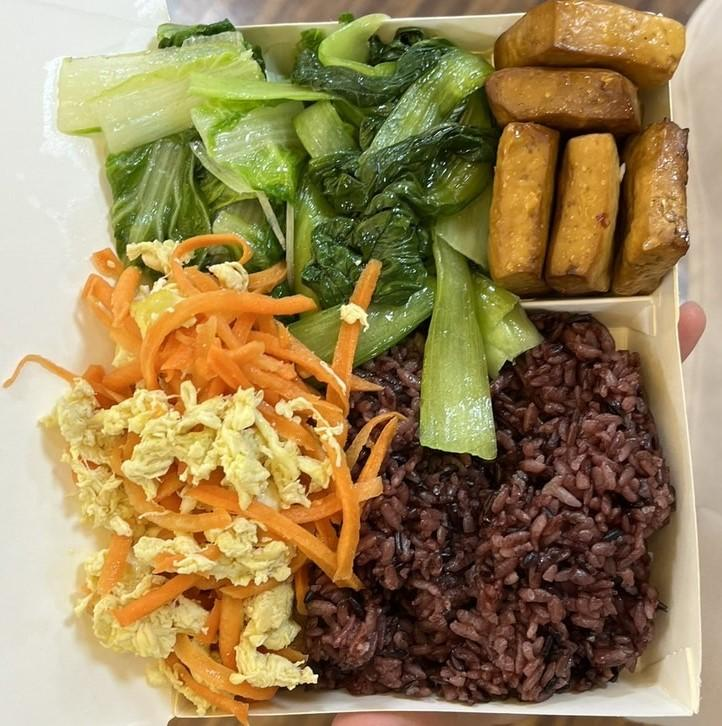big grilled chicken leg: (69, 9, 722, 726)
braised fish: (301, 297, 676, 711)
braised fish fillet: (65, 250, 359, 709), (295, 22, 512, 460), (487, 5, 690, 298), (84, 34, 305, 284)
